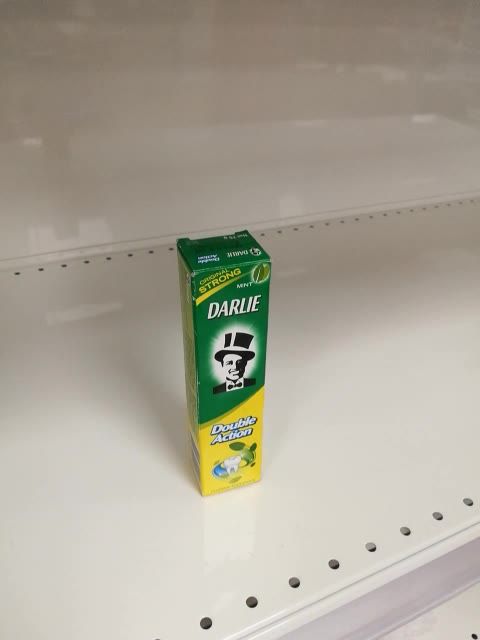toothpaste: (175, 229, 273, 496)
